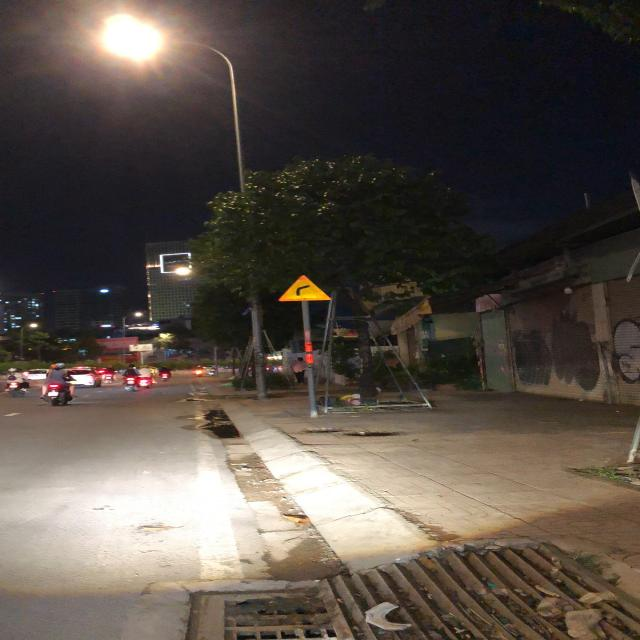Bien bao cho ngoat nguy hiem: (272, 274, 331, 306)
